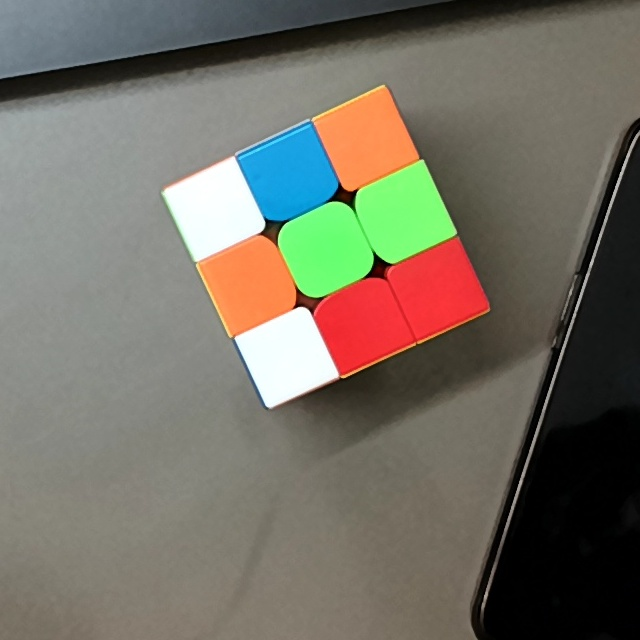tile: (408, 254, 466, 320), (372, 182, 434, 243), (294, 220, 354, 281), (258, 326, 316, 388), (338, 110, 396, 171), (183, 183, 245, 238), (220, 254, 275, 315), (260, 149, 323, 202), (335, 292, 390, 350)
